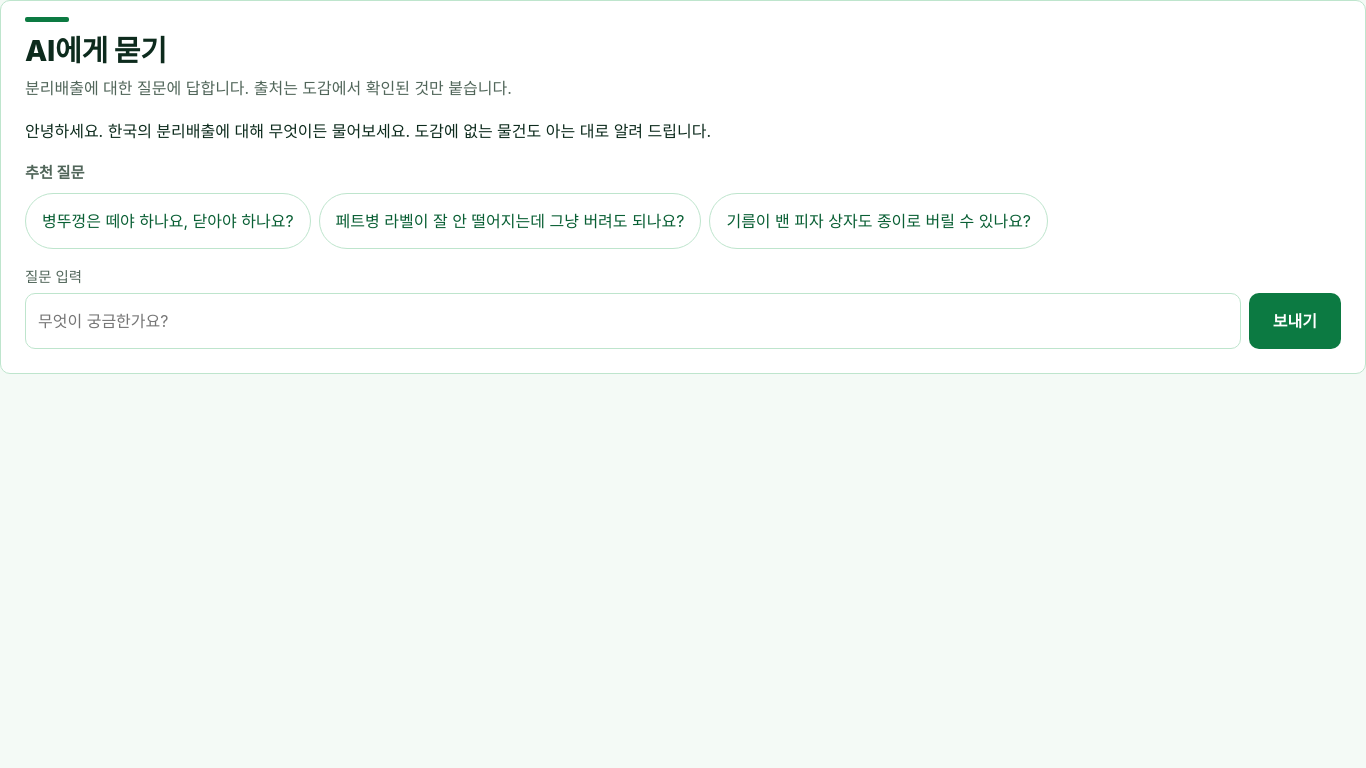
Test case: ChatSection › explains that the assistant is unavailable and points at the catalog
Step 1. Type "페트병 어떻게 버려요?" into the field labelled "질문 입력" → {"x": 633, "y": 321}, box [25,293,1241,349]
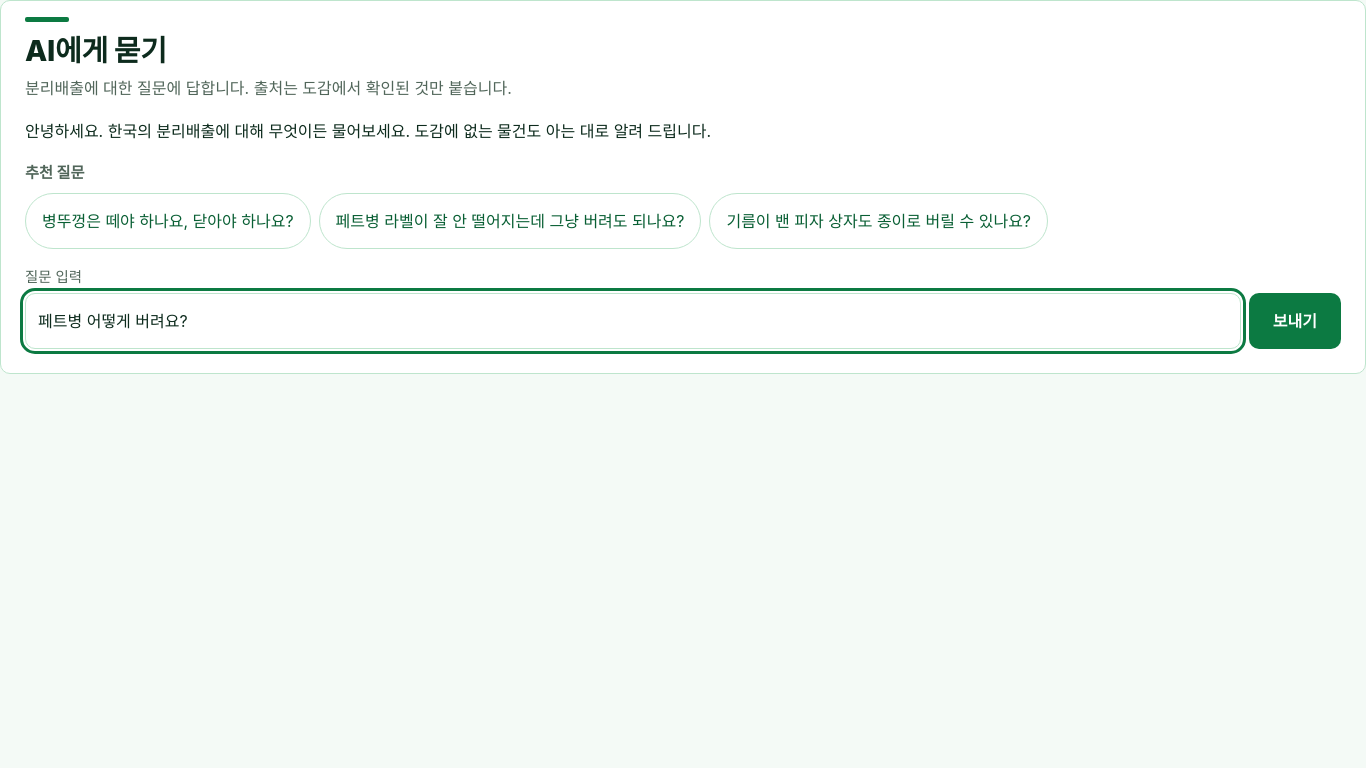
Step 2. Click the button "보내기" → {"x": 1295, "y": 321}, box [1249,293,1341,349]
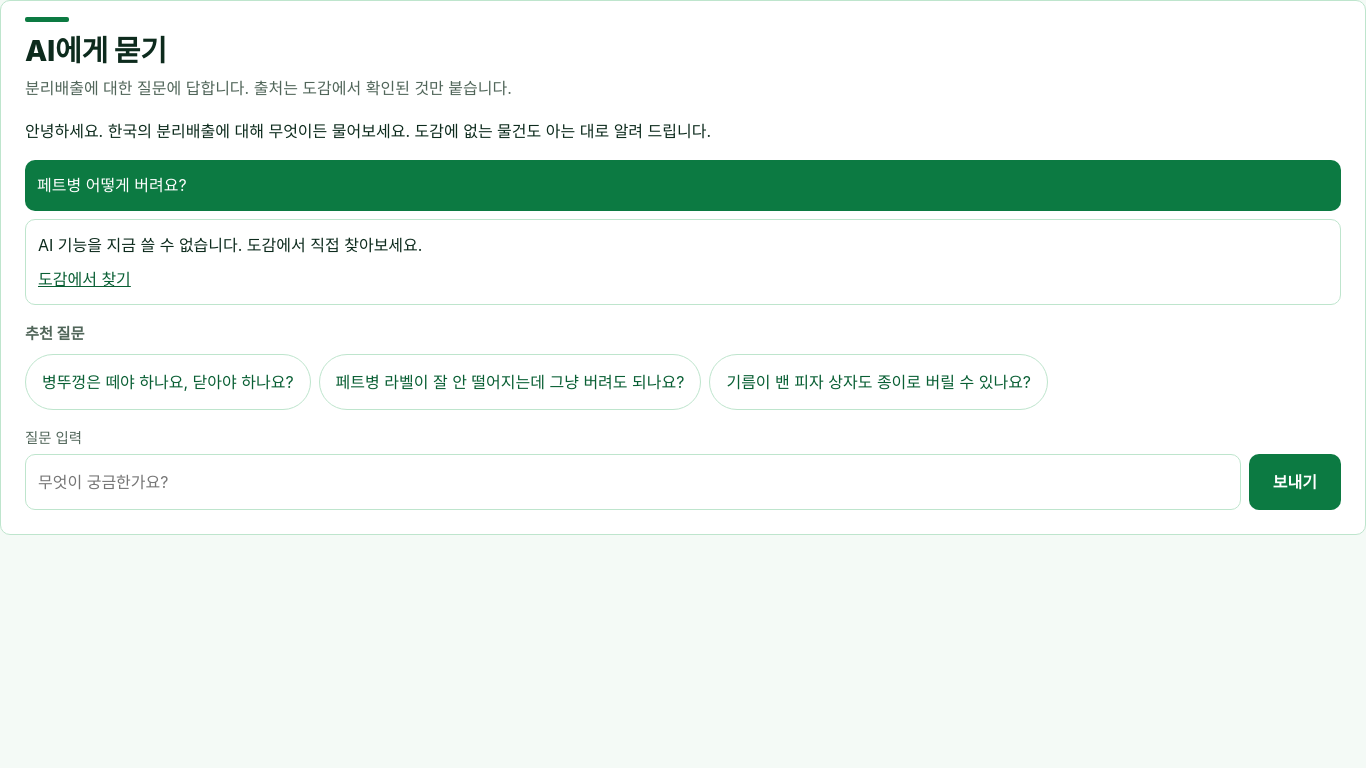
Check: the text "AI 기능을 지금 쓸 수 없습니다. 도감에서 직접 찾아보세요." is shown, box [38,234,422,254]
